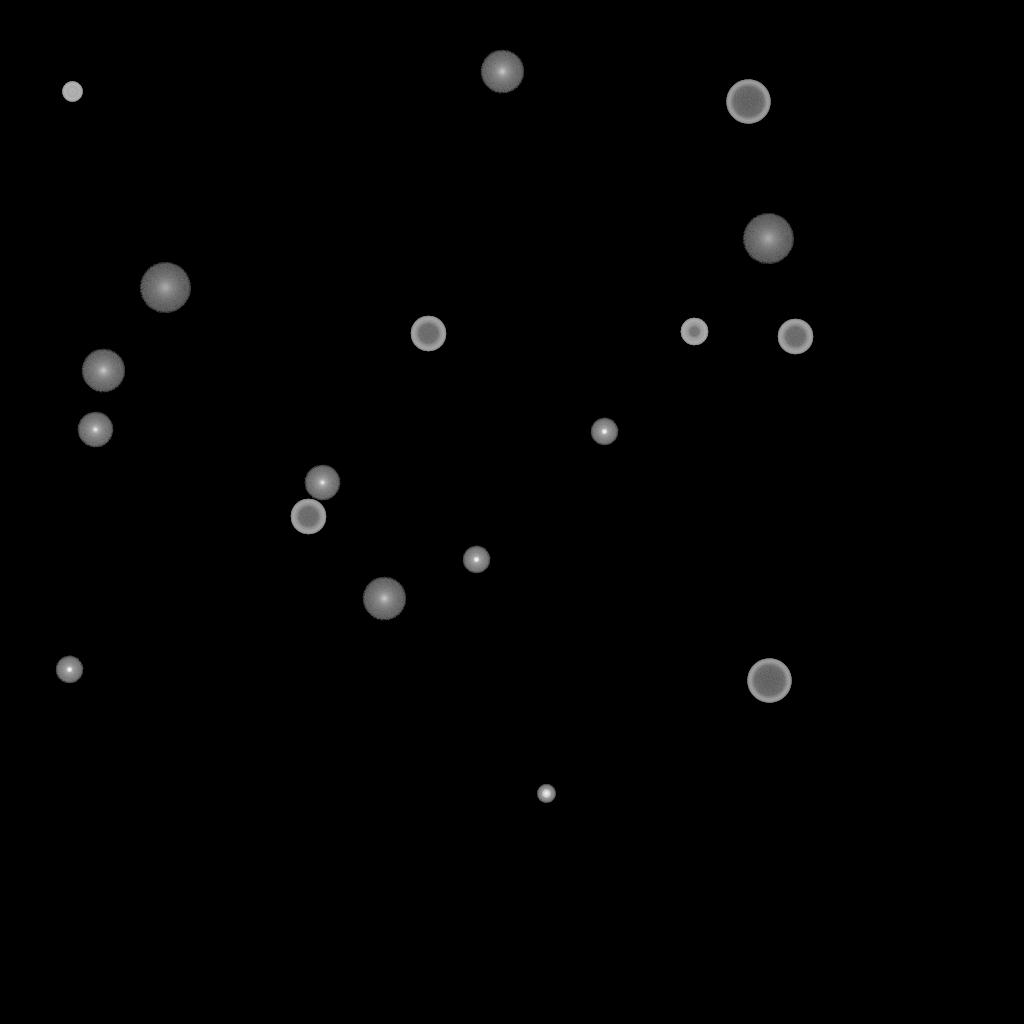depth:-10: (462, 546, 490, 574), (55, 656, 83, 684), (590, 418, 618, 446)
depth:-20: (537, 785, 555, 803)
depth:-40: (62, 82, 82, 102)
depth:-50: (680, 318, 708, 346)
depth:-60: (777, 319, 813, 355), (410, 316, 446, 352), (290, 499, 326, 535)
depth:-70: (747, 659, 791, 703), (726, 80, 770, 124)
depth:0: (77, 412, 113, 448), (304, 465, 340, 501)
depth:10: (81, 349, 125, 393), (362, 577, 406, 621), (480, 50, 524, 94)
depth:20: (742, 214, 794, 264), (139, 263, 191, 313)
